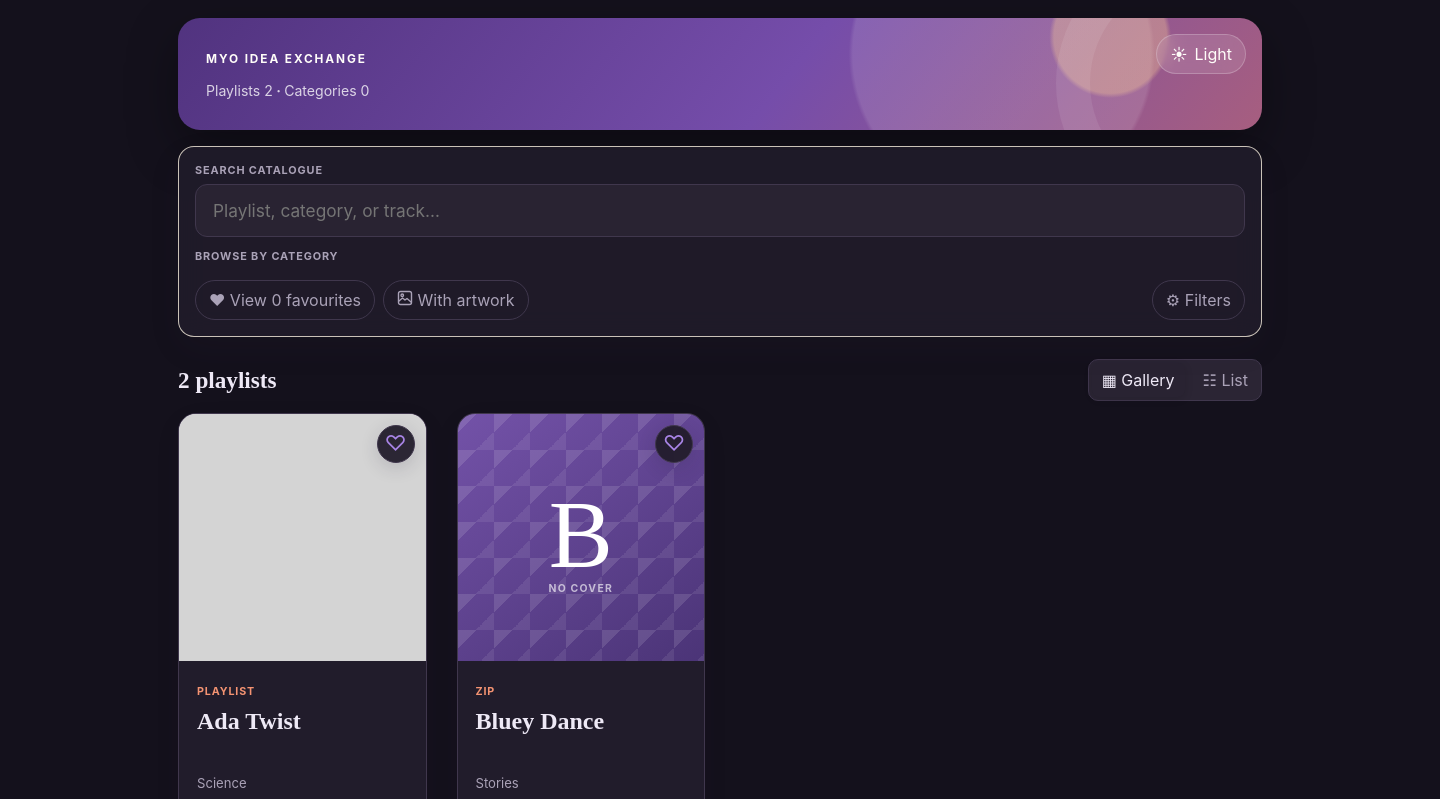
Test: catalogue app › shows a useful empty state
The width and height of the screenshot is (1440, 799).
(page scrolled)
Type "not in catalogue" into the search field.
click(720, 210); type("not in catalogue")  # box left=195, top=184, right=1245, bottom=237
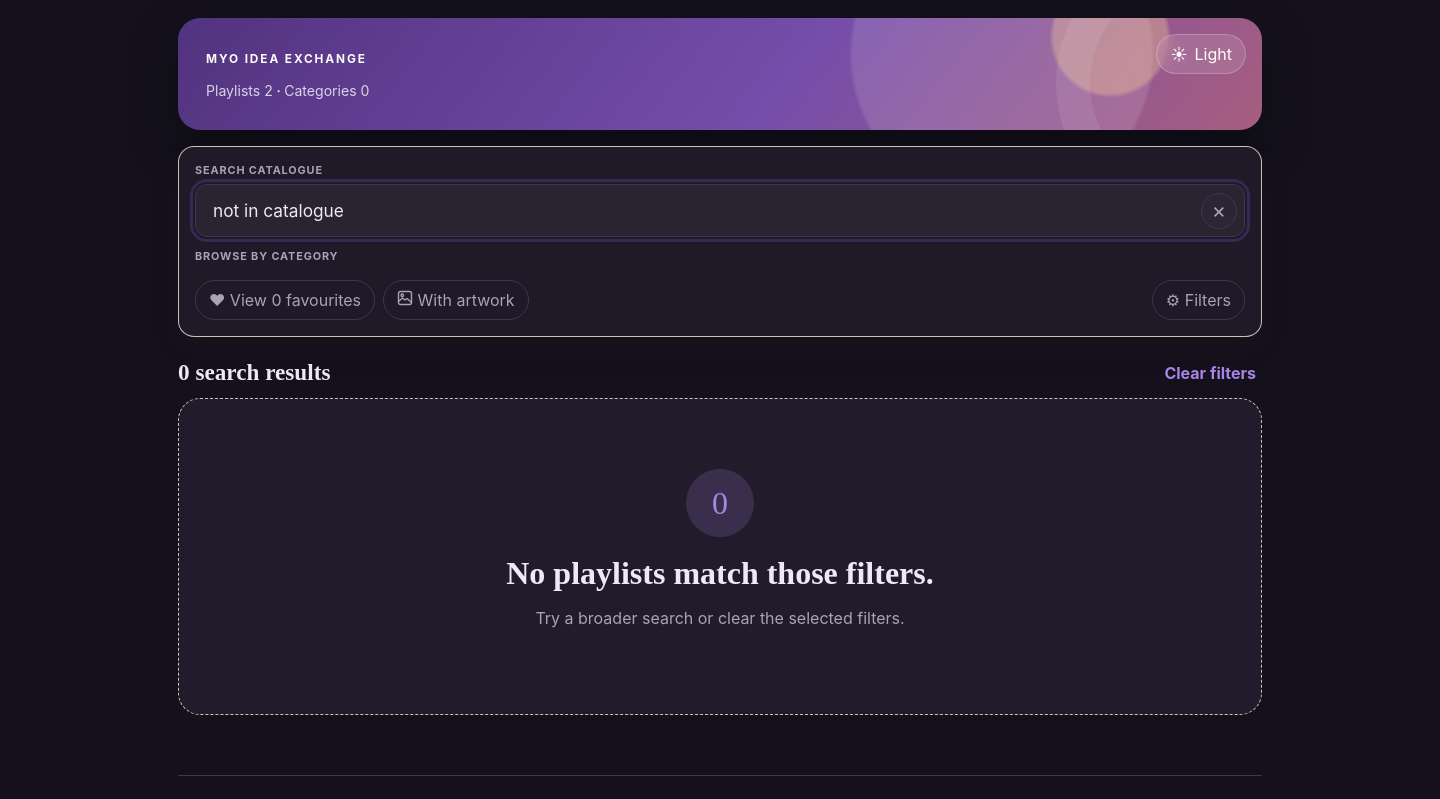
Expected: the heading "No playlists match those filters." is shown, left=506, top=555, right=934, bottom=591
